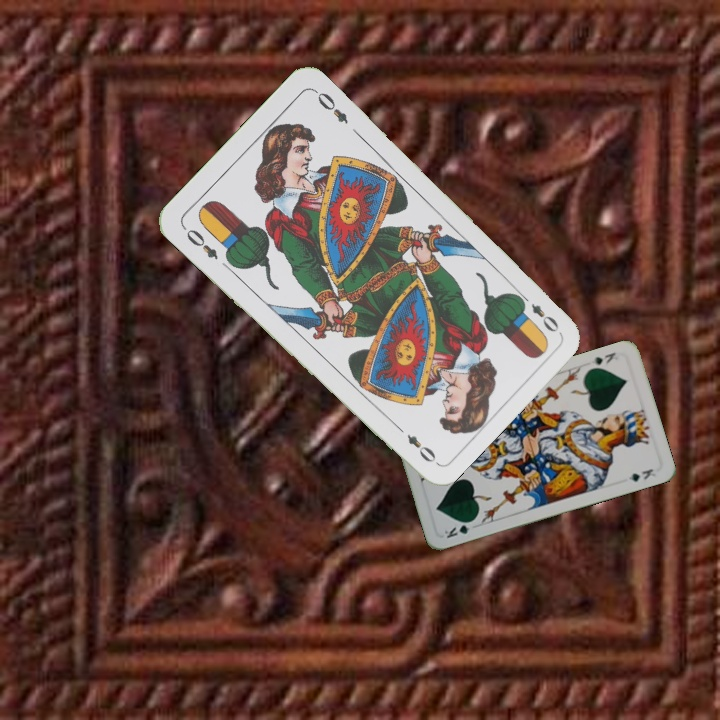EO: (514, 289, 562, 335), (178, 222, 221, 262)
GK: (440, 516, 478, 541), (587, 348, 618, 368)
